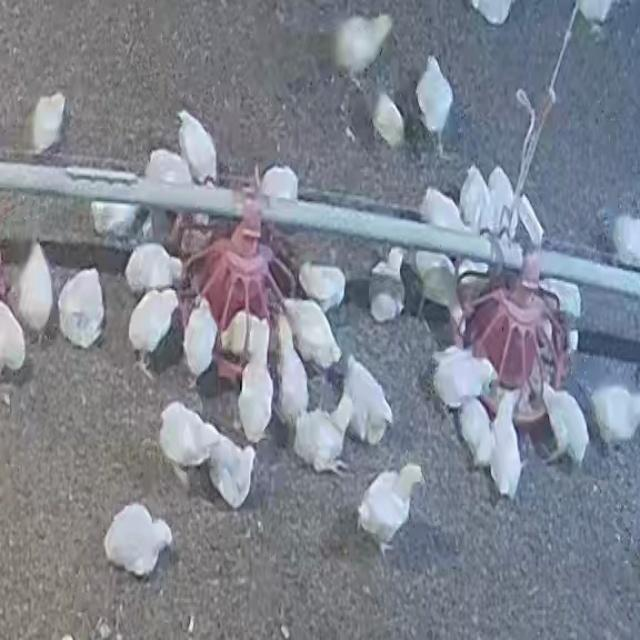chicken: (357, 463, 426, 551), (103, 502, 173, 580), (281, 297, 341, 372), (127, 286, 181, 368), (332, 13, 392, 86), (429, 344, 494, 410), (344, 355, 392, 444), (540, 381, 589, 468), (158, 400, 216, 470), (56, 267, 106, 348), (292, 406, 350, 475), (488, 387, 525, 495), (238, 338, 274, 446), (275, 315, 310, 426), (16, 240, 54, 340), (414, 52, 454, 144), (415, 254, 464, 326), (208, 436, 255, 509), (222, 308, 274, 373), (588, 384, 640, 447), (183, 298, 220, 382), (124, 242, 182, 294), (178, 110, 220, 180), (296, 261, 348, 310), (372, 247, 406, 321), (457, 396, 492, 466), (368, 94, 410, 148), (30, 91, 66, 154), (419, 186, 464, 233), (459, 163, 491, 227), (487, 166, 515, 236), (145, 149, 194, 187), (516, 194, 542, 249)
